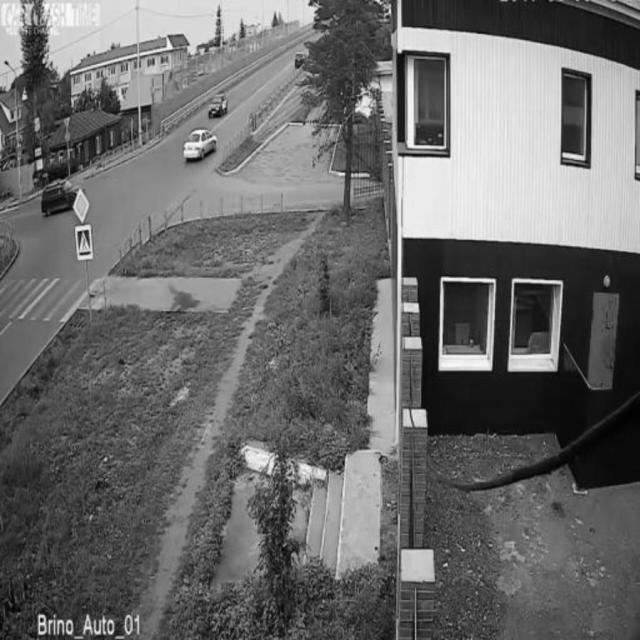vehicle: (39, 177, 83, 219), (183, 126, 219, 160), (204, 92, 230, 120), (294, 49, 311, 69)
